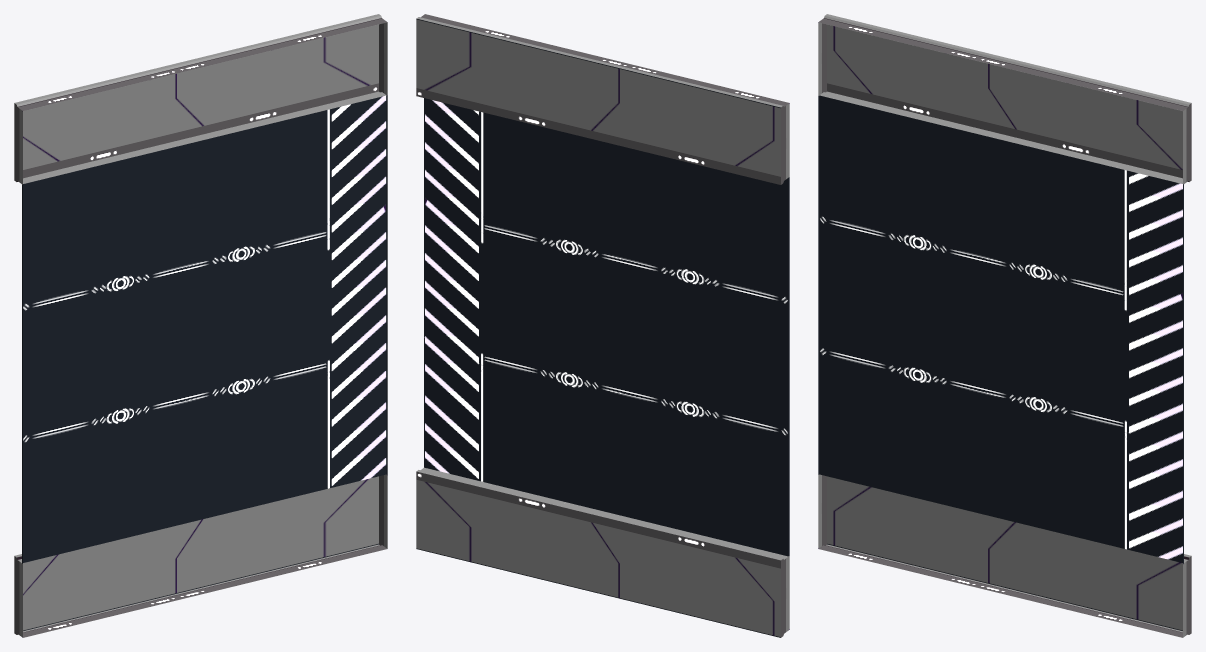
The model's file is SM_M_LineRoad.fbx.
3 views of the same model, side by side, from view 1: azimuth 30°, elevation 25°; view 2: azimuth 150°, elevation 25°; view 3: azimuth 330°, elevation 25° (orthographic).
Parts seen in each view (by area): view 1: SM_M_LineRoad; view 2: SM_M_LineRoad; view 3: SM_M_LineRoad.
Part boxes in pixels (x1,y1,x2,y2): SM_M_LineRoad: [14, 14, 387, 637]; SM_M_LineRoad: [416, 14, 789, 637]; SM_M_LineRoad: [818, 14, 1191, 637].
Bounding box in the file's own units: 2833 × 3938 × 119.
